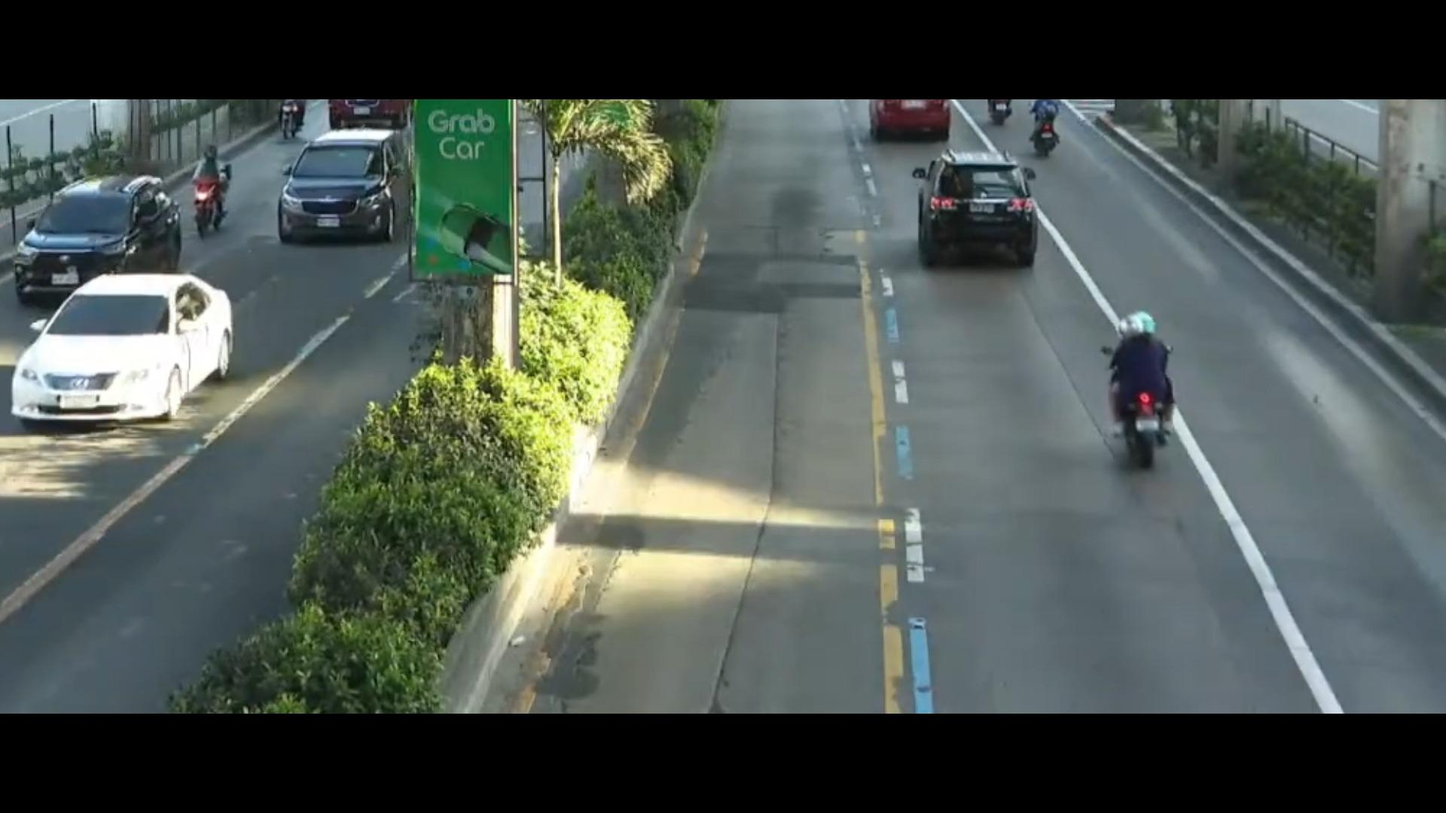Motorcycle: (1062, 307, 1216, 489), (169, 123, 252, 262), (1025, 99, 1070, 156)
SUV: (5, 161, 189, 294), (901, 149, 1045, 286), (267, 133, 417, 249)
Sedan: (13, 256, 252, 460)
